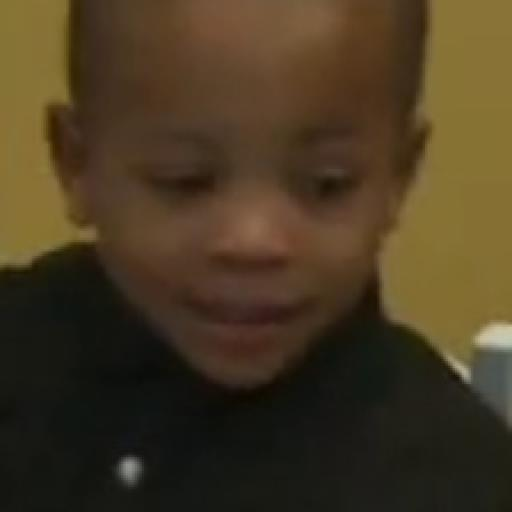Autism: (49, 17, 425, 415)
